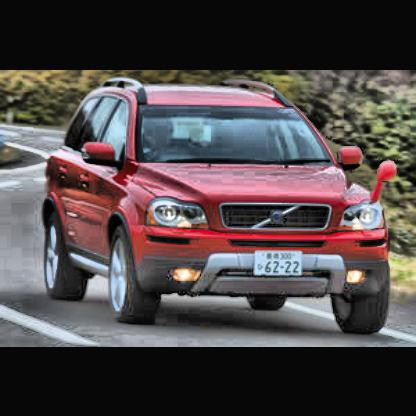Volvo XC90 SUV 2007: (48, 77, 400, 340)
